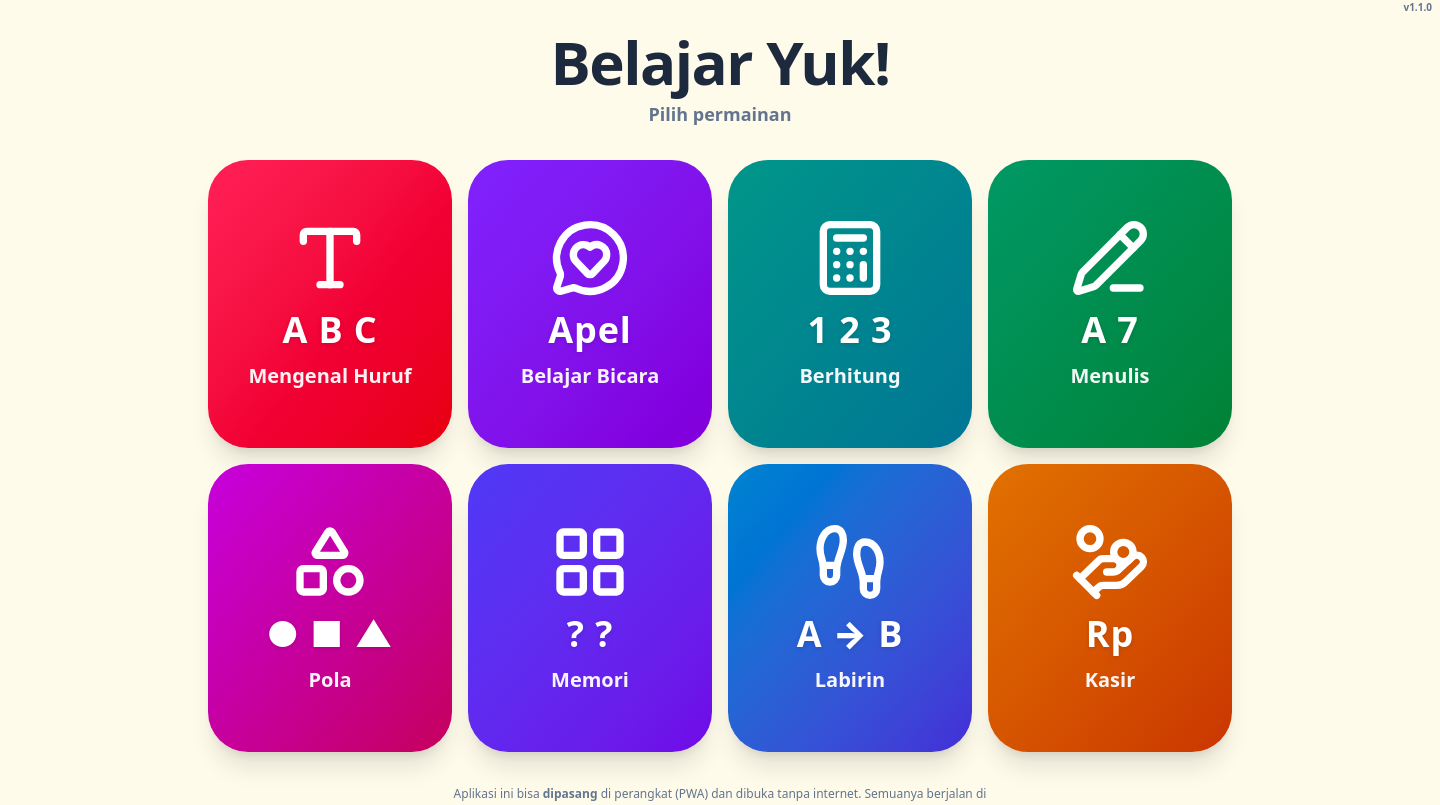
Arabic letters and numerals › the toggle › survives storage being unavailable
The image size is (1440, 805).
Click the button "A B C Mengenal Huruf" at x=330, y=304, box [208,160,452,448]
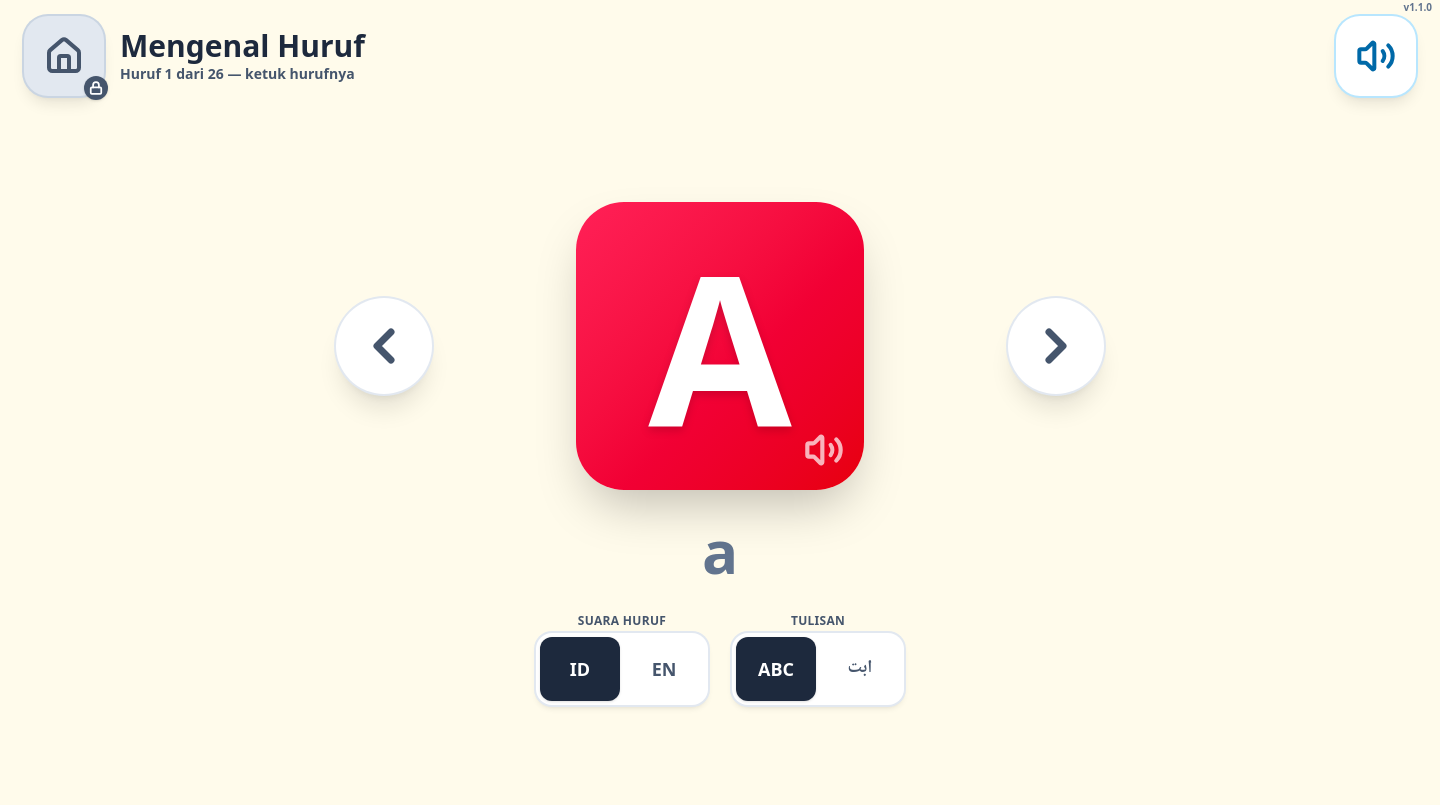
Click the radio button with aria-label "Tulisan Arab" at x=860, y=668, box [820,636,900,700]
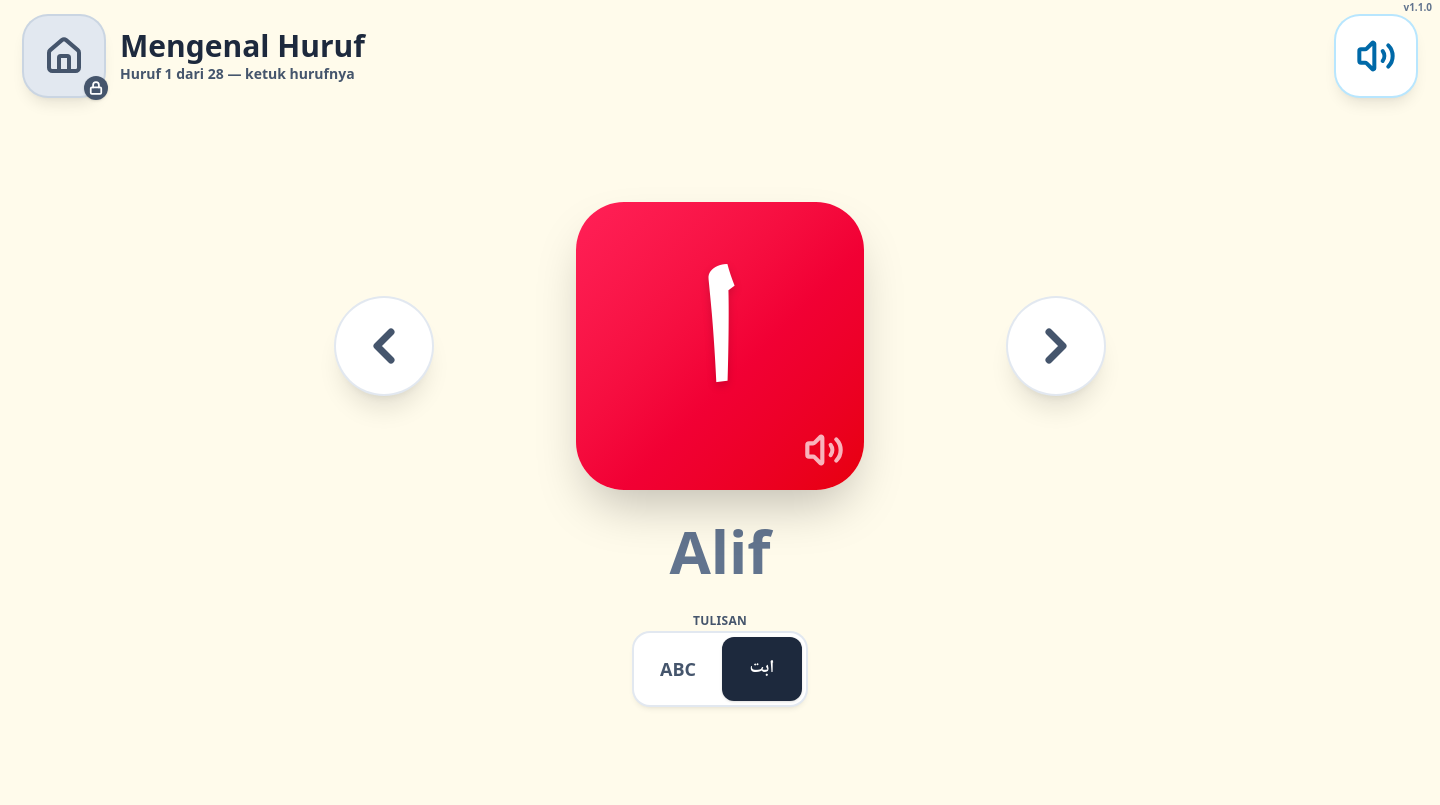
Check: the button named "Dengarkan huruf ا" is shown, box [576,202,864,490]
